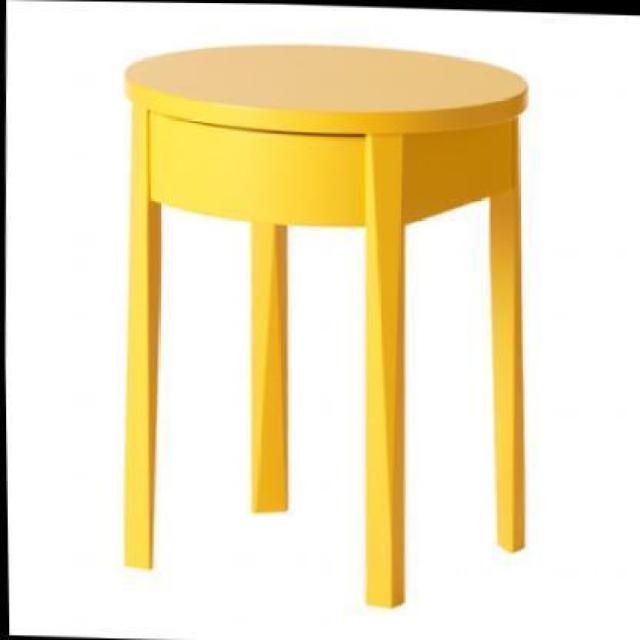tables: (122, 43, 529, 608)
